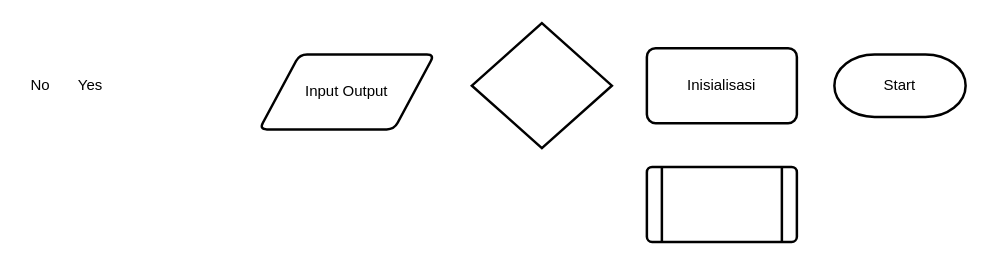
Some shapes in this 988 by 264 pixel diagram are drawn without their labels. Here are the shapes that lost their labels. From the top down, the box of each, then its label:
(470, 21, 612, 149): Kondisi
(645, 165, 798, 242): Function
